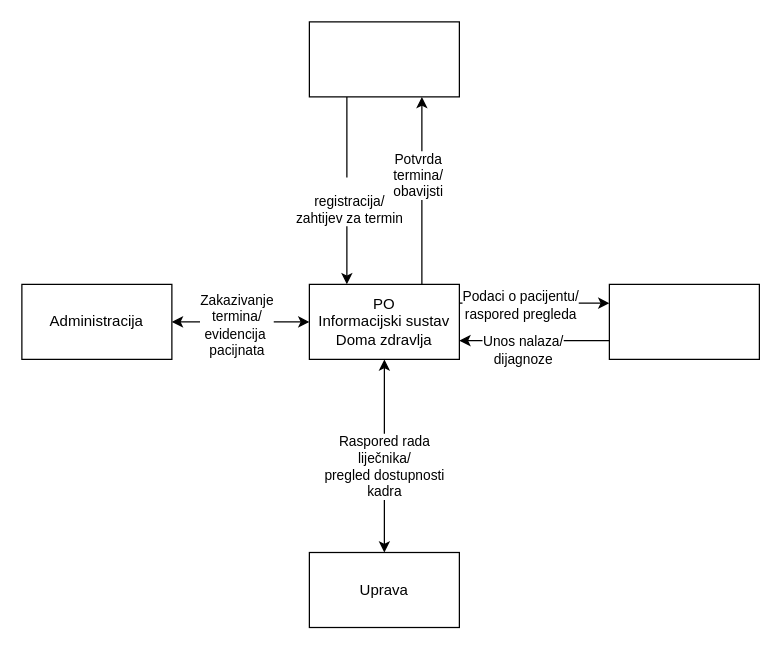
This 781x650 diagram has some shape labels left out. The centre of each missing label's shape, as x and y in pixels:
"Liječnik" belongs at (683,321).
"Pacijent" belongs at (383,59).
